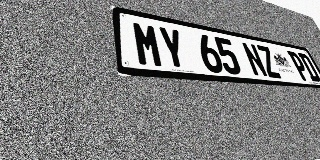5: (213, 37, 243, 75)
6: (195, 33, 225, 74)
D: (297, 53, 320, 82)
M: (131, 21, 165, 68)
N: (241, 42, 269, 77)
P: (287, 51, 312, 81)
Y: (157, 26, 189, 70)
Z: (255, 44, 282, 79)
